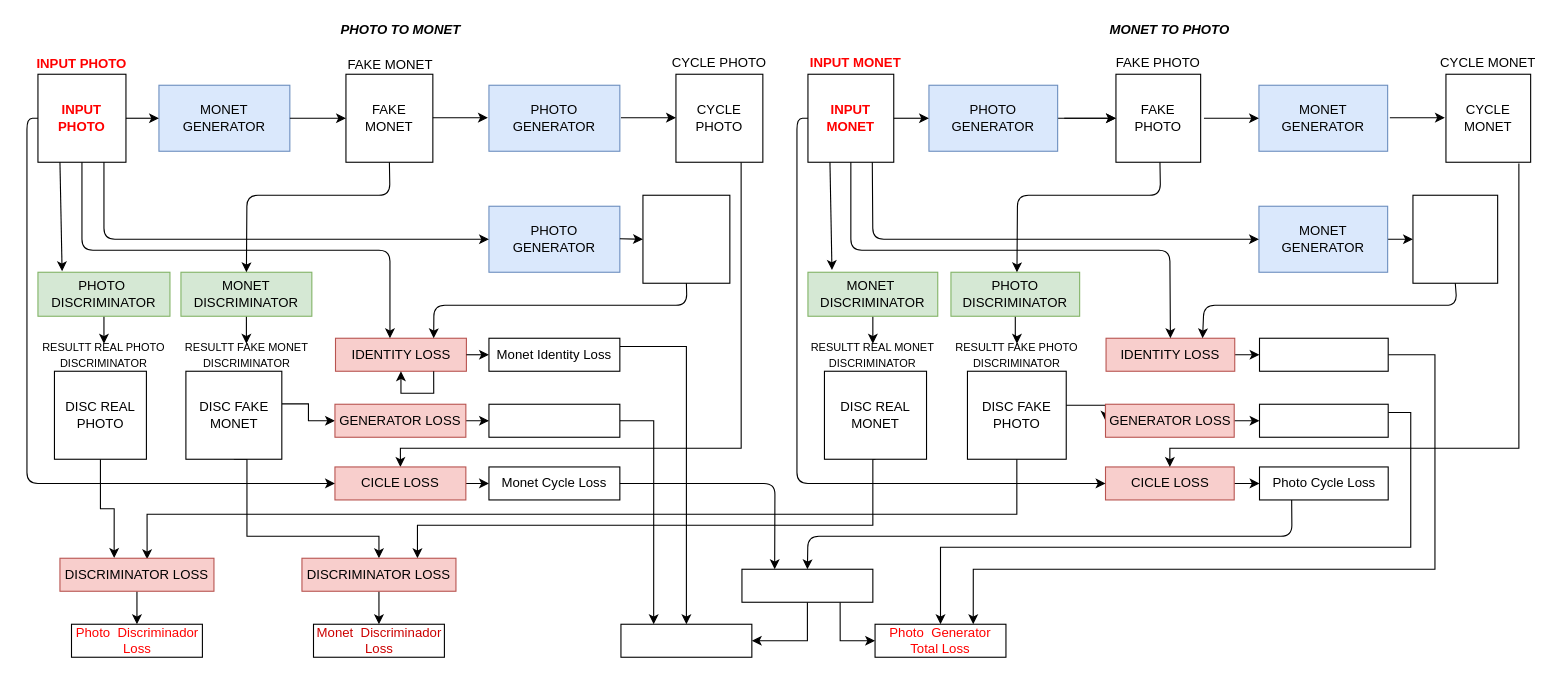
Some shapes in this 1562 by 677 pixel diagram are drawn without their labels. The centre of each missing label's shape, as x and y in pixels:
Monet Generator Total Loss: point (686, 640)
Monet Loss Generator: point (554, 420)
Photo Generator Loss: point (1323, 420)
Photo Identity Loss: point (1323, 354)
SAME MONET: point (1455, 238)
SAME PHOTO: point (686, 238)
Total Cycle Loss: point (807, 585)
